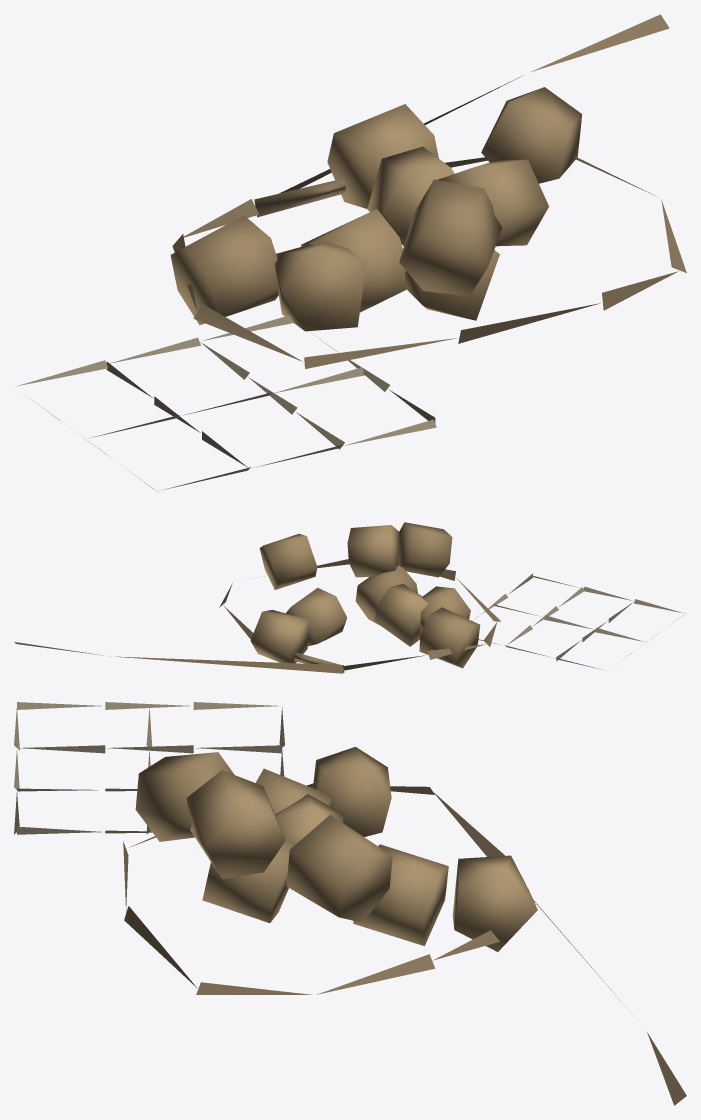
File: float_bundle_a_lod2.glb
The picture shows the model from 3 angles, top to bottom: view 1: azimuth 30°, elevation 25°; view 2: azimuth 150°, elevation 25°; view 3: azimuth 270°, elevation 25°; orthographic projection. The views are drawn at different scales.
Visible parts, largest first — view 1: Surface.001; view 2: Surface.001; view 3: Surface.001.
Boxes of the visible parts, box(x1,y1,x2,y2) form: Surface.001: box(15, 14, 686, 492); Surface.001: box(14, 522, 683, 673); Surface.001: box(14, 702, 686, 1105).
Bounding box in the file's own units: 2.81 × 0.4964 × 2.03.
